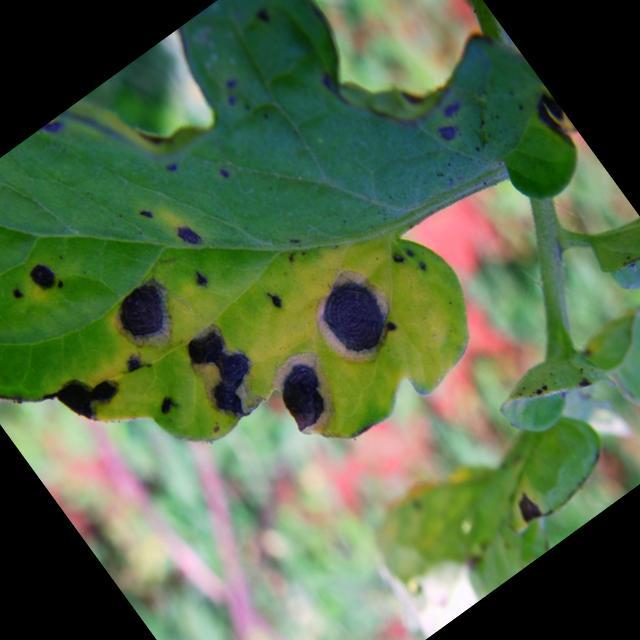Tomato Early blight leaf: (0, 0, 640, 607), (358, 388, 632, 636)
